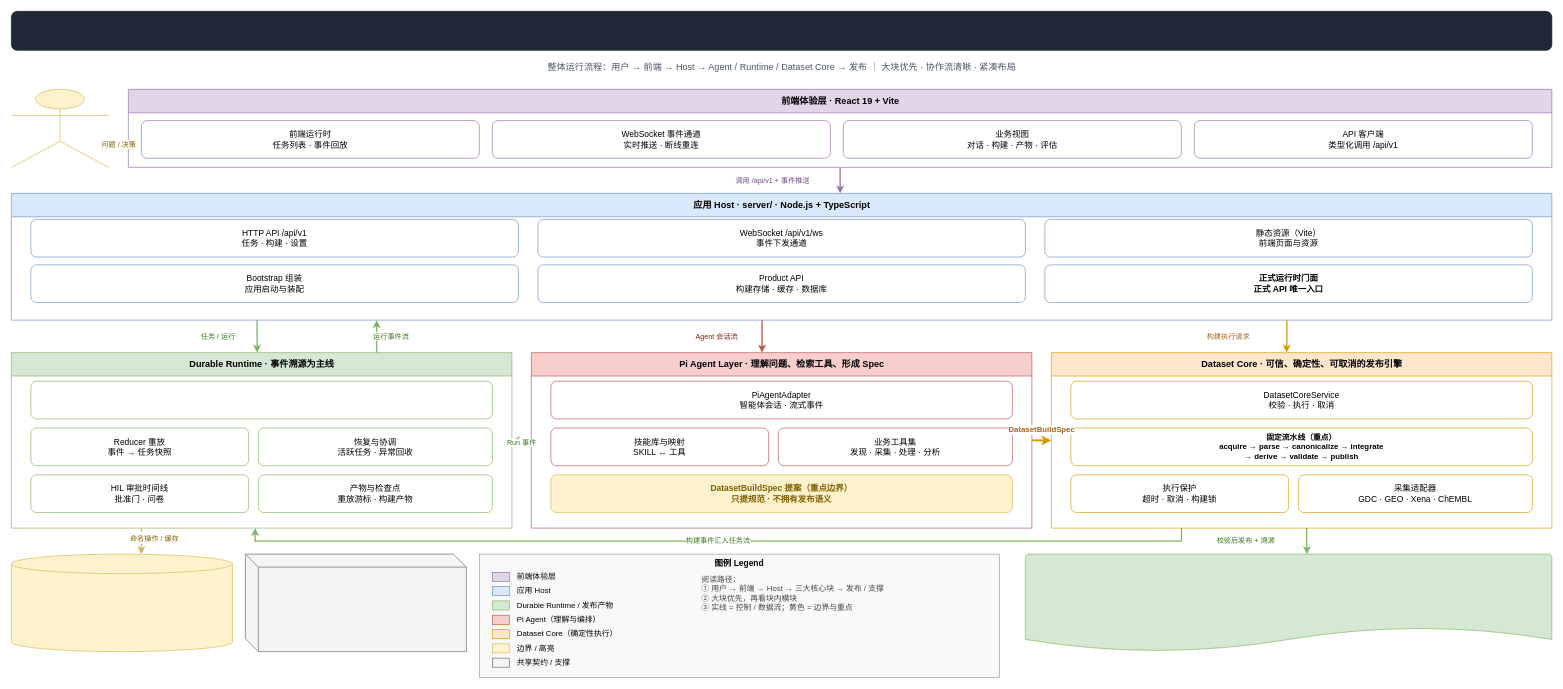
Some shapes in this 1563 by 689 pixel diagram are drawn without their labels. The shapes that lost their labels are listed below. From the top down, each one's centre as x and y in pixels, then its label:
At (781,30): "BioMed-QAgent 系统架构（main @ 90591364）".
At (60,128): "科研用户 自然语言问题 / HIL 决策".
At (261,400): "TaskRepository 事件日志 = 事实源".
At (121,602): "Python 持久化桥 JSONL 命名操作".
At (355,602): "共享契约层 @biomed/contracts server / frontend 共用".
At (1288,602): "Formal Dataset Publication（发布产物） 校验后数据集 · Provenance NO_DATA = 显式业务结果".
